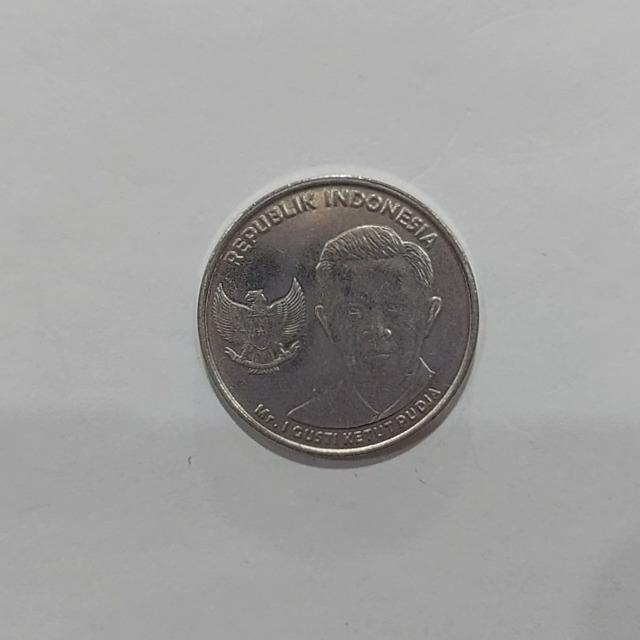Rp100: (195, 172, 481, 466)
